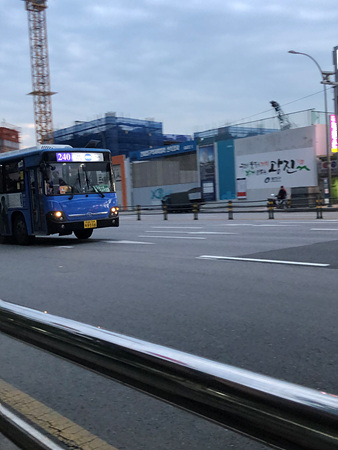bnum: (56, 150, 72, 162)
